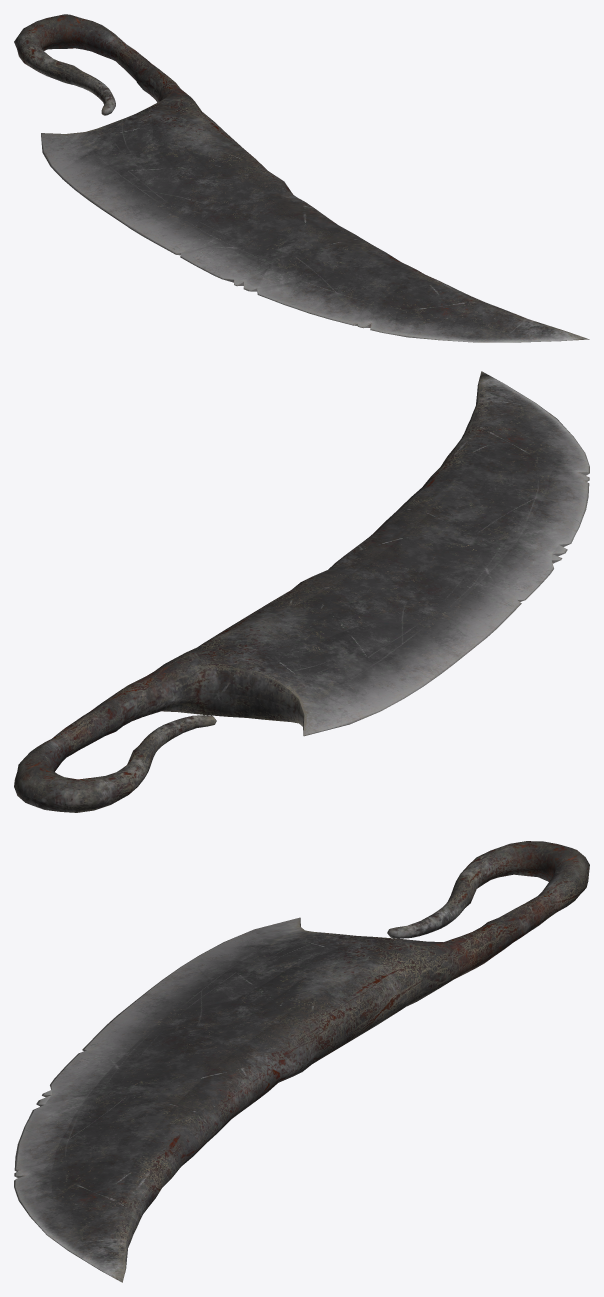
File: butcheringknife.fbx
The picture shows the model from 3 angles, top to bottom: view 1: azimuth 30°, elevation 25°; view 2: azimuth 150°, elevation 25°; view 3: azimuth 330°, elevation 25°; orthographic projection. The views are drawn at different scales.
Visible parts, largest first — view 1: WP_A_0761; view 2: WP_A_0761; view 3: WP_A_0761.
Part boxes in pixels (left/top/right/bottom): WP_A_0761: left=14, top=14, right=589, bottom=342; WP_A_0761: left=14, top=371, right=589, bottom=812; WP_A_0761: left=14, top=841, right=589, bottom=1282.
Bounding box in the file's own units: 49.17 × 9.14 × 167.
Materials: 1 (1 with a texture image).
